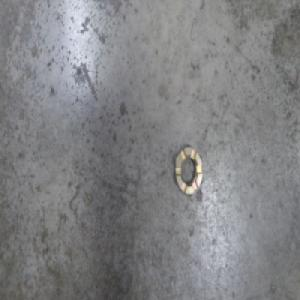Nut: (174, 142, 203, 198)
